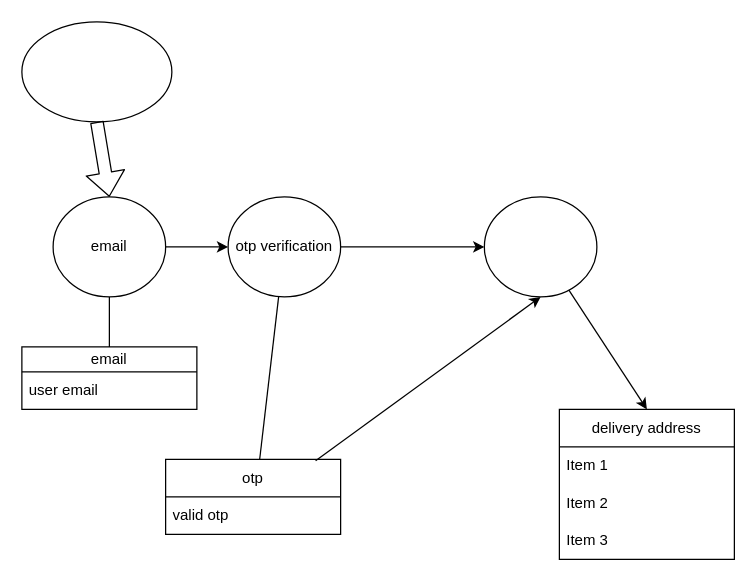
Image size: 756x581. Some labels were removed from this diagram. Each missing label, with the centre of its shape:
homepage: pixel 540 246
start: pixel 96 71
